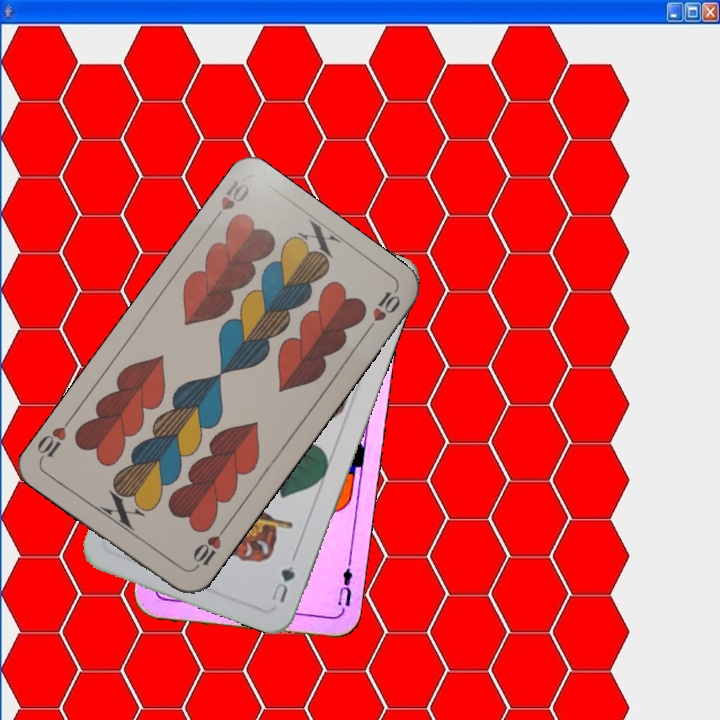EU: (333, 558, 355, 617)
GU: (267, 562, 298, 606)
H10: (205, 176, 252, 227), (188, 522, 229, 574)
